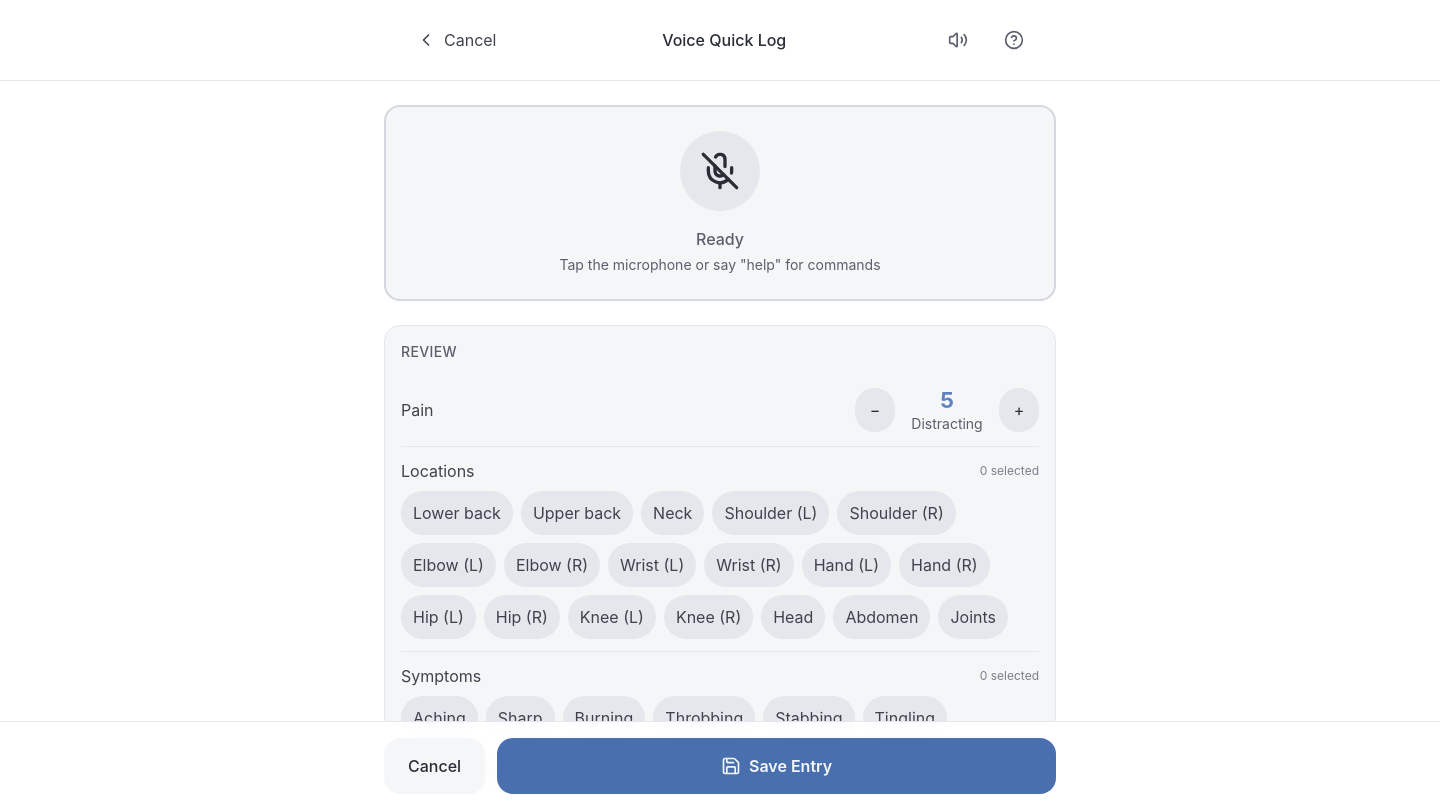
Test case: VoiceFirstQuickLog › Pain Level Controls › allows increasing pain level with button
The image size is (1440, 810).
What coordinates should you click on to do the following:
click the button named "Increase pain level"
I would click on:
 (1019, 410)
Its box is [999,388,1039,432].
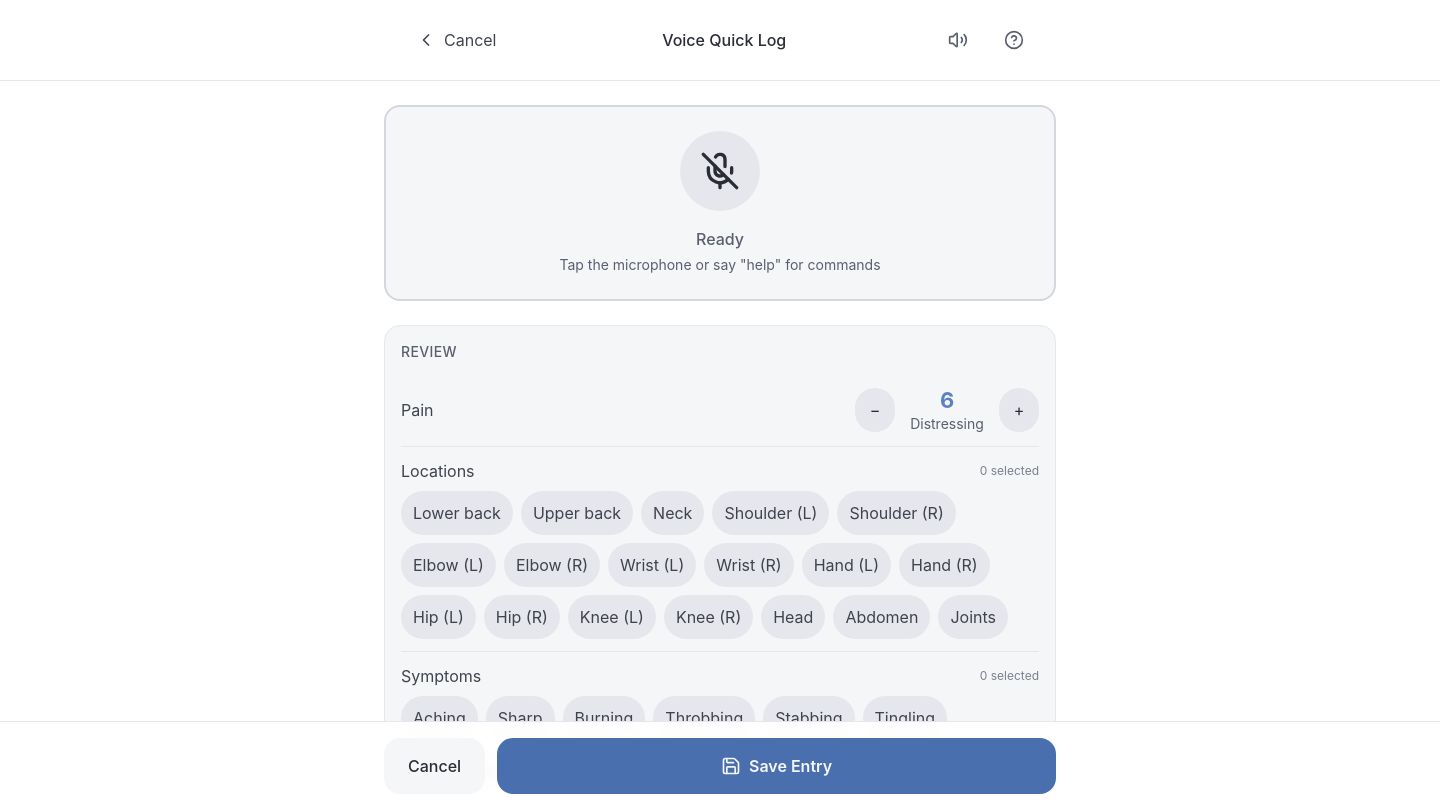
Now the text "6" is shown, box [940,387,954,413]
Now the text "Distressing" is shown, box [907,414,987,434]
